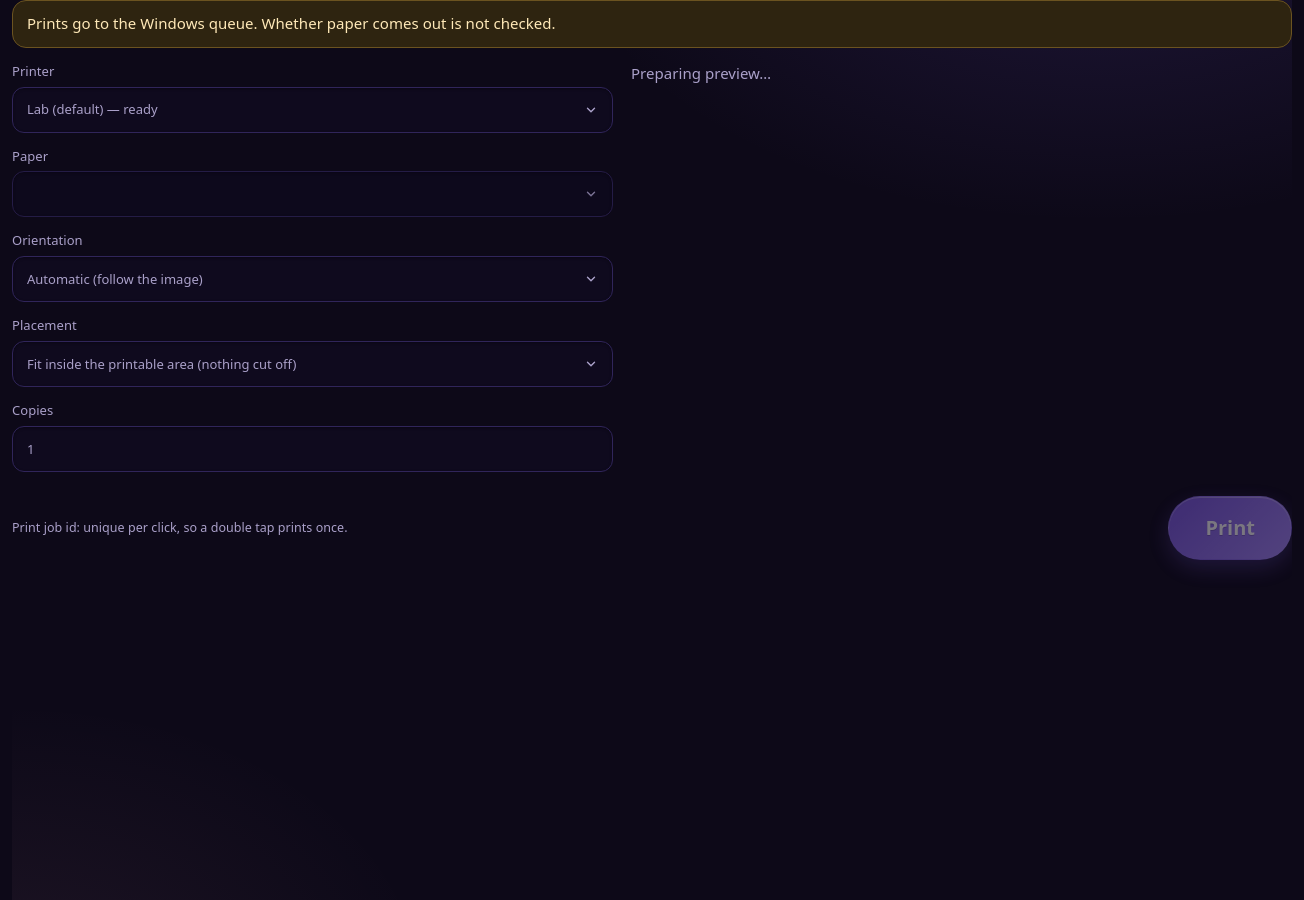
it: PrintPanel › ignores old capabilities and blocks printing until the latest preview arrives
Later steps or results of the test are not shown.
Select "New — ready" in the dropdown labelled "Printer" at (312, 110), box [12,87,613,133]
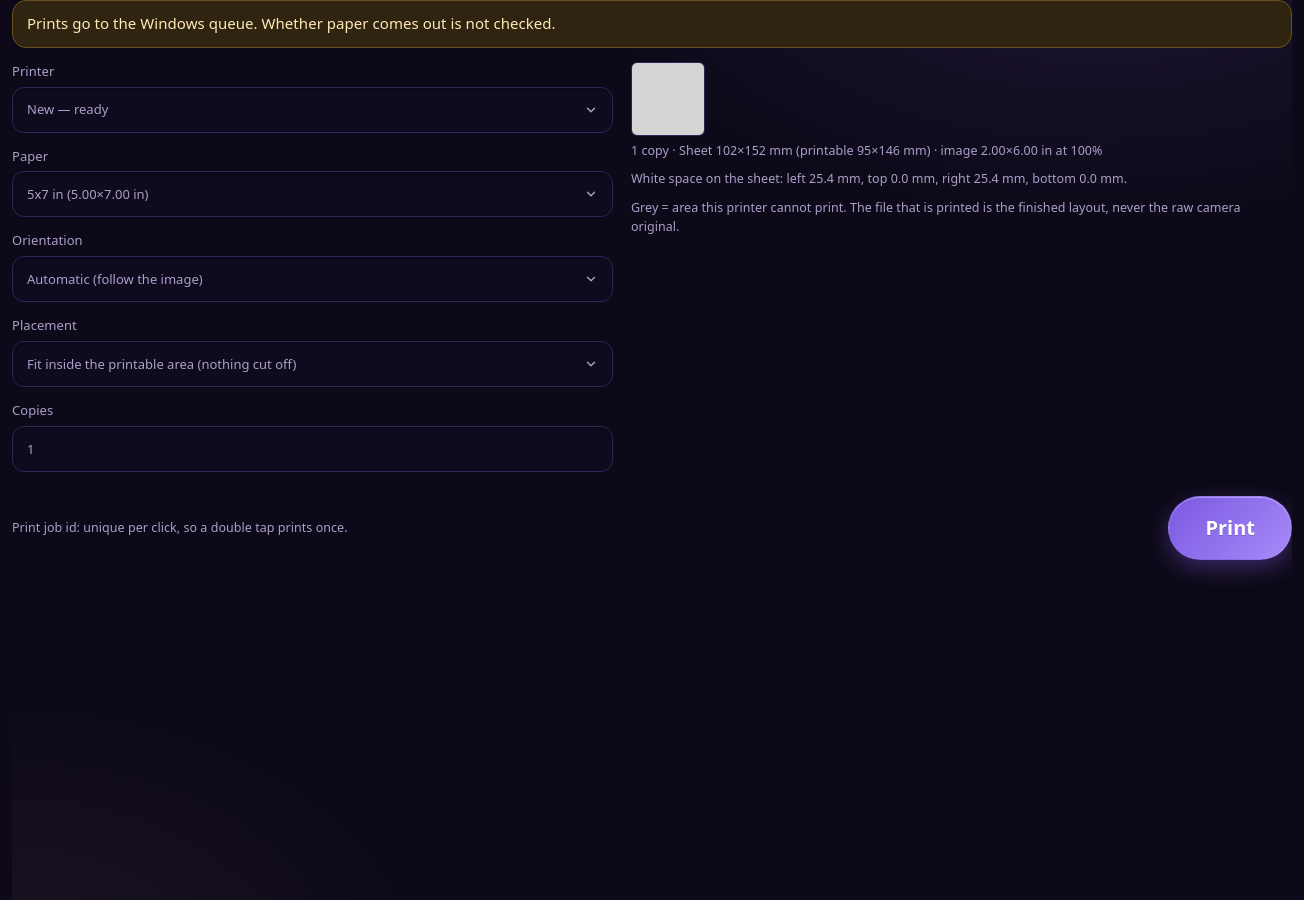
Expected: the button "Print" is enabled, [1168,496,1292,560]
